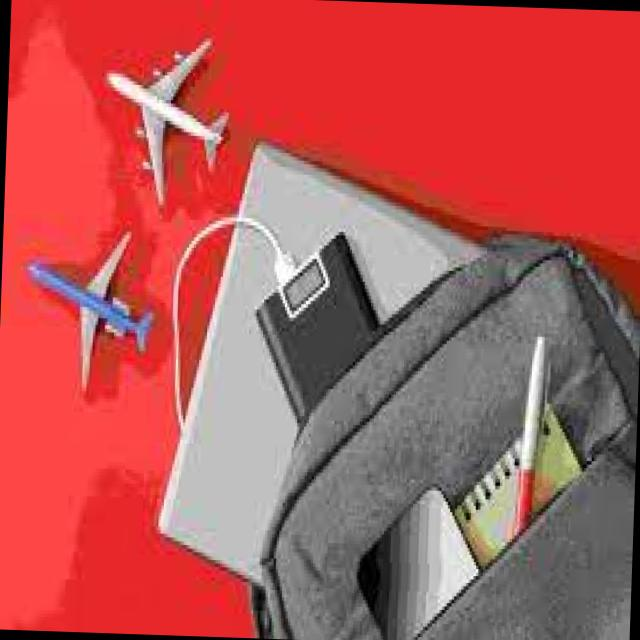portable-charger: (252, 230, 386, 417)
